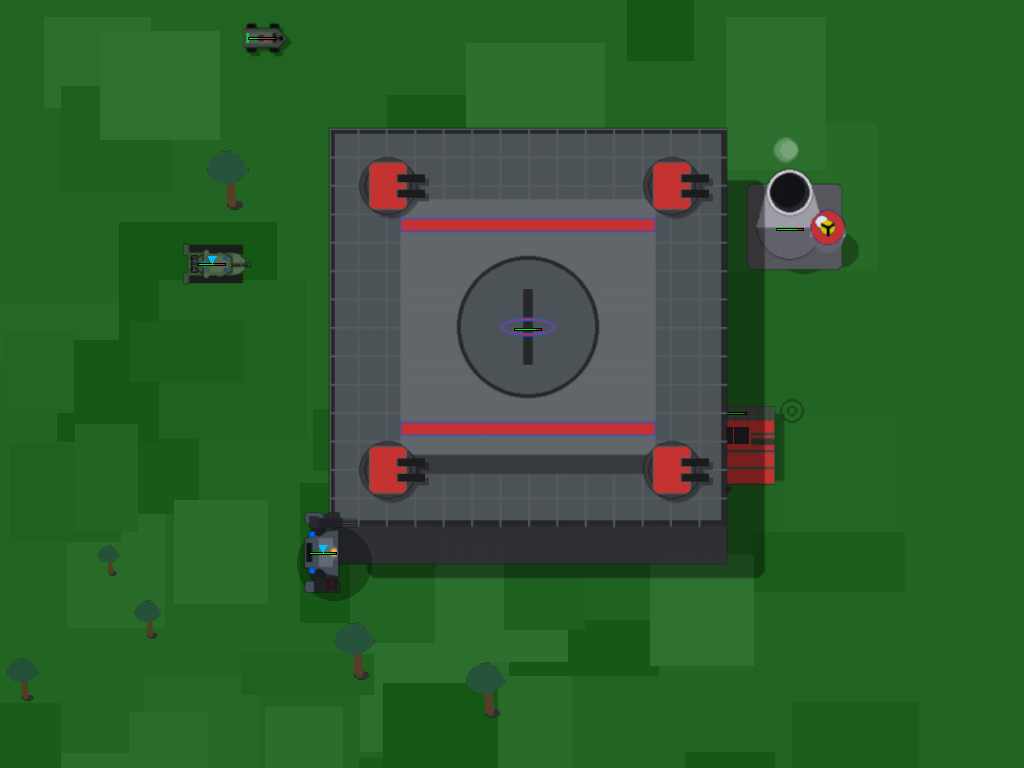ArmoredCar: (242, 16, 282, 56)
Barracks: (680, 358, 786, 464)
Bastion: (295, 93, 761, 559)
HeavyMech: (294, 522, 351, 579)
M1A2_rus: (180, 230, 245, 295)
PowerPlant: (751, 188, 804, 266)
